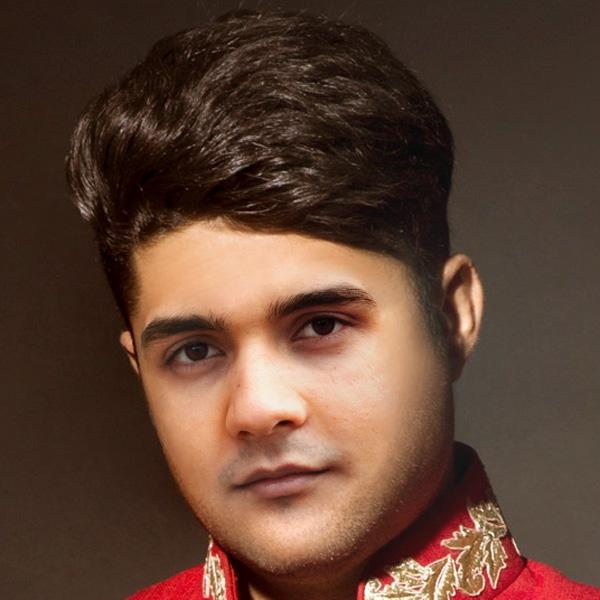Eyes: (276, 299, 362, 355), (150, 324, 232, 382)
